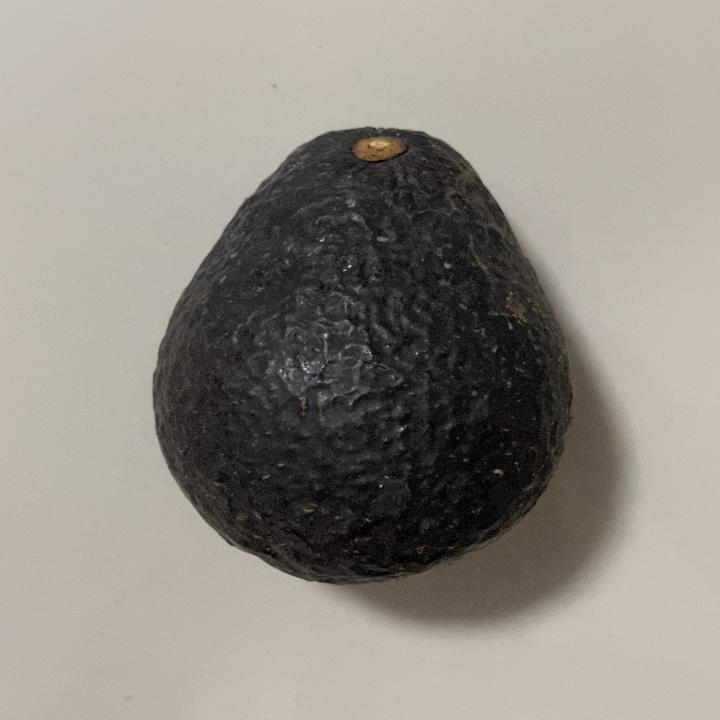Level2: (147, 120, 577, 590)
